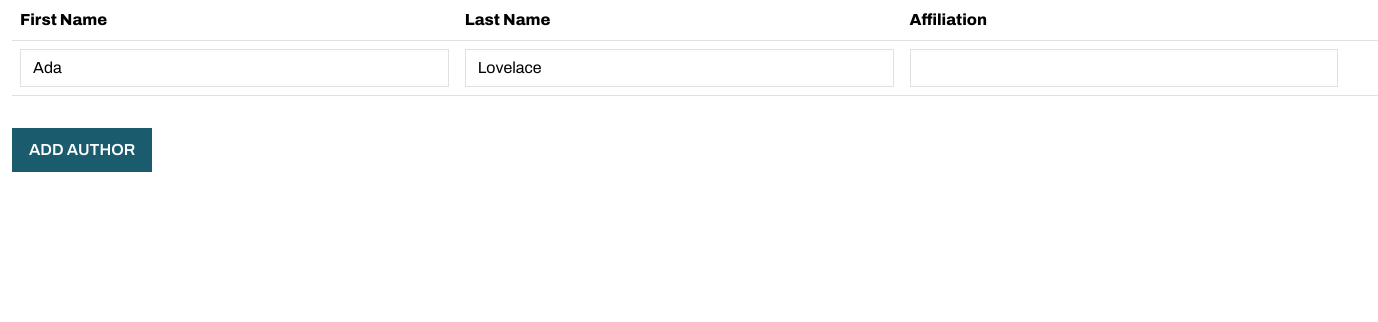
it: Authors › adds a new empty author row when Add Author is clicked
Expected: the number of rows is 2, x1=12 y1=0 x2=1377 y2=40; x1=12 y1=40 x2=1377 y2=96
Click the button "Add Author": (82, 150) x1=12 y1=128 x2=152 y2=172
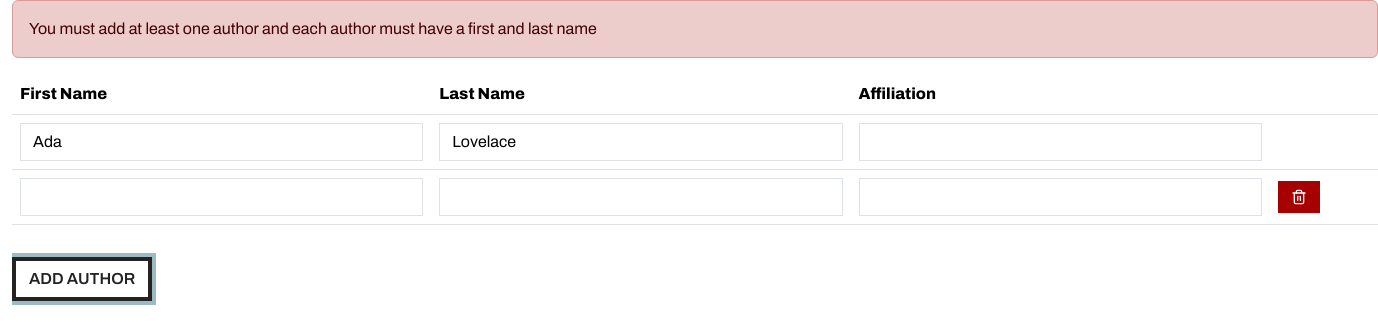
Expected: the number of rows is 3, x1=12 y1=74 x2=1377 y2=114; x1=12 y1=114 x2=1377 y2=170; x1=12 y1=170 x2=1377 y2=224
Expected: the text "You must add at least one author and each author must have a first and last name" is shown, x1=12 y1=0 x2=1377 y2=58
